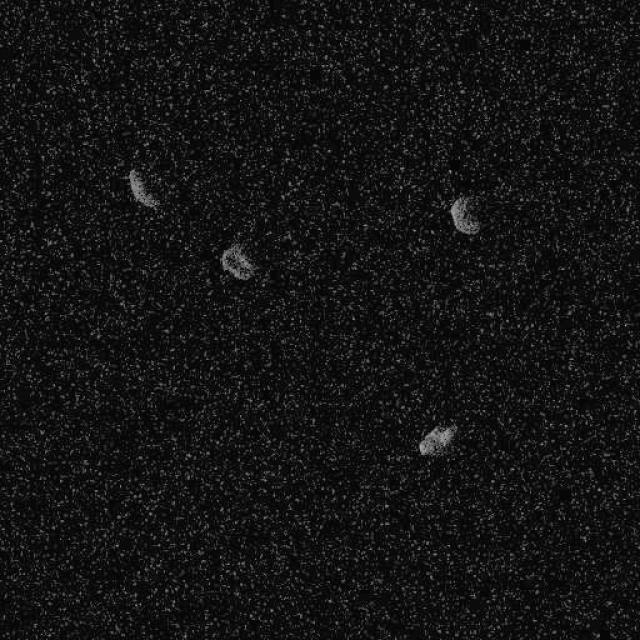D2: (126, 166, 160, 209), (220, 241, 256, 281), (417, 422, 458, 457), (448, 194, 482, 235)
